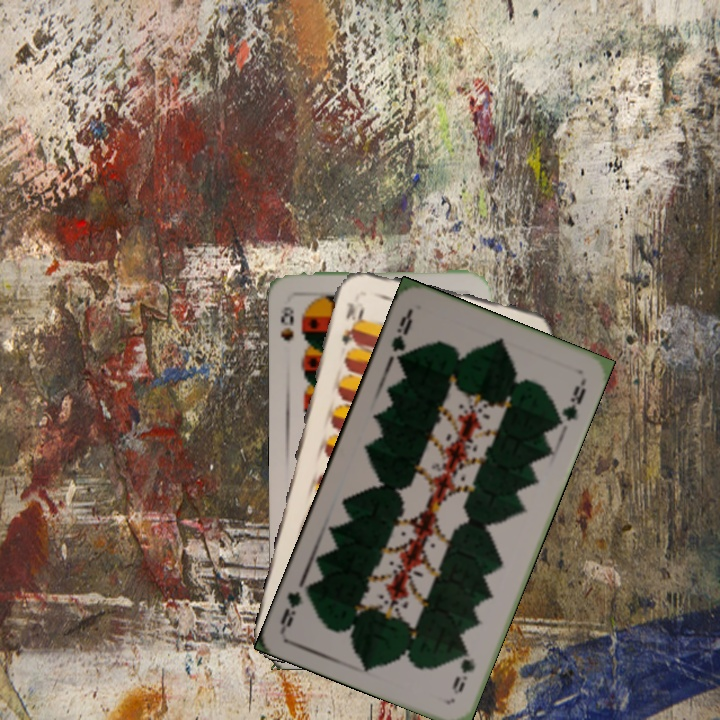E10: (337, 298, 365, 349)
G9: (387, 306, 415, 366), (448, 644, 478, 697)
S8: (277, 303, 297, 344)
